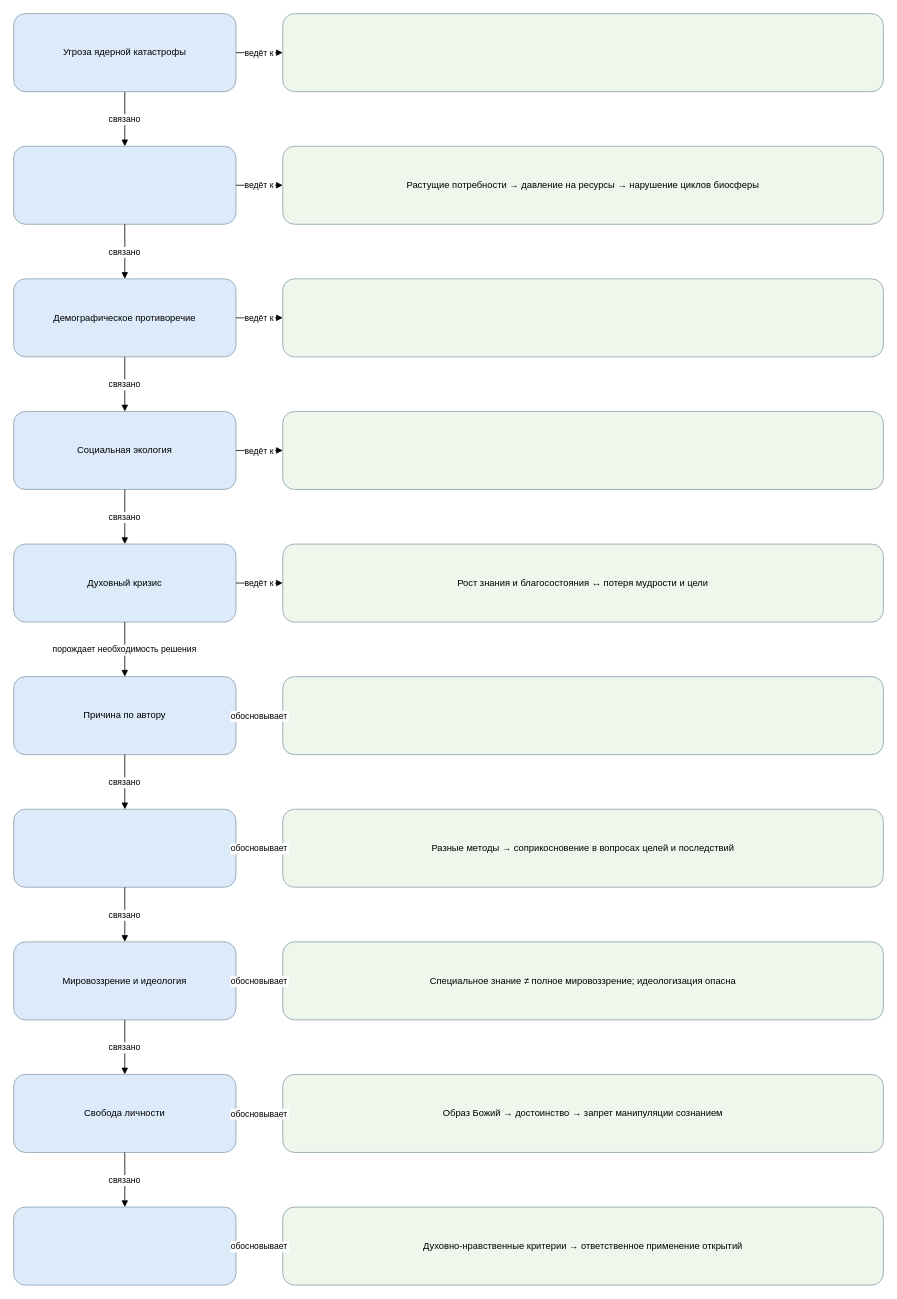
This 897x1299 diagram has some shape labels left out. Here are the shapes that lost their labels. From the top down, the centre of each, then its label:
(582,52): Техническое могущество → риск глобального ущерба
(124,184): Экологическая угроза
(582,317): Рост населения и потребления ↔ депопуляция некоторых стран
(582,450): Техногенная среда → риски для личности, здоровья и семьи
(582,715): Нравственная автономизация науки → зависимость от страстей
(124,847): Диалог науки и религии
(124,1245): Итоговая цель
